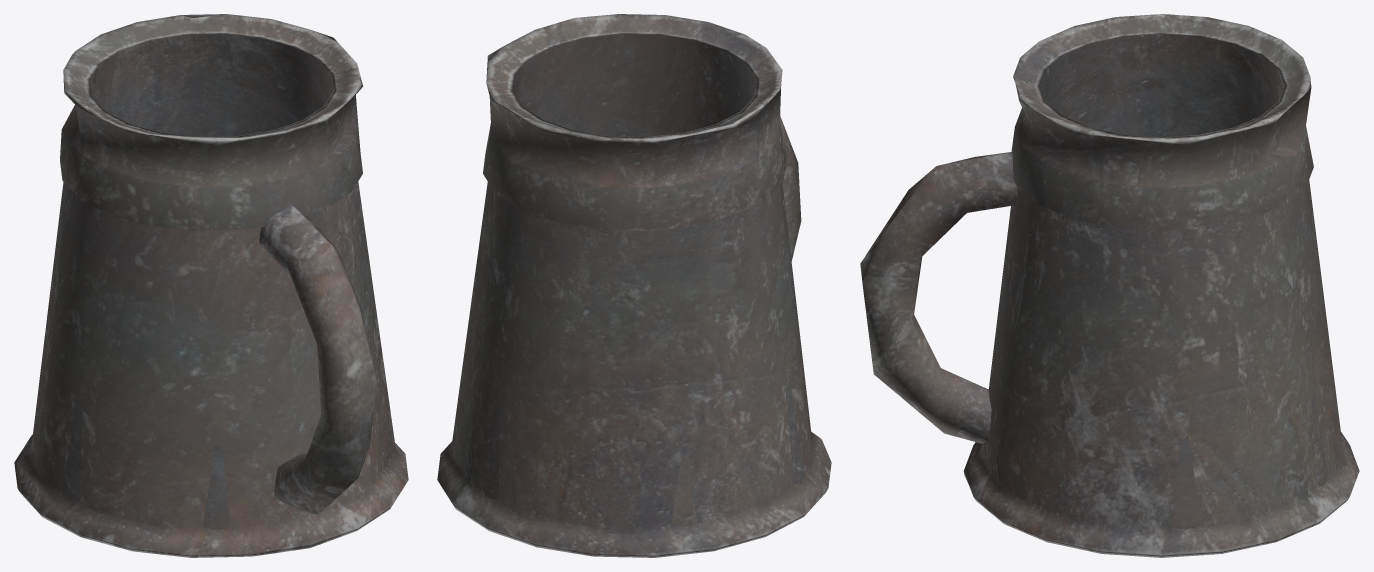
File: SM_Mug.fbx
3 views of the same model, side by side, from view 1: azimuth 30°, elevation 25°; view 2: azimuth 150°, elevation 25°; view 3: azimuth 270°, elevation 25° (orthographic).
Parts seen in each view (by area): view 1: SM_Mug_LOD0; view 2: SM_Mug_LOD0; view 3: SM_Mug_LOD0.
Part boxes in pixels (<box>): SM_Mug_LOD0: <box>14,14,408,557</box>; SM_Mug_LOD0: <box>437,14,831,557</box>; SM_Mug_LOD0: <box>860,14,1359,557</box>.
Bounding box in the file's own units: 18.22 × 22.98 × 20.31.
Materials: 1 (1 with a texture image).
